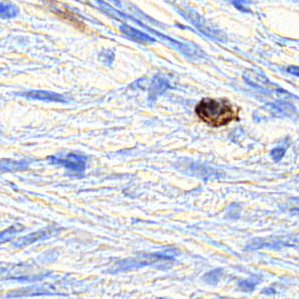Lymphocyte: (194, 94, 243, 127)
